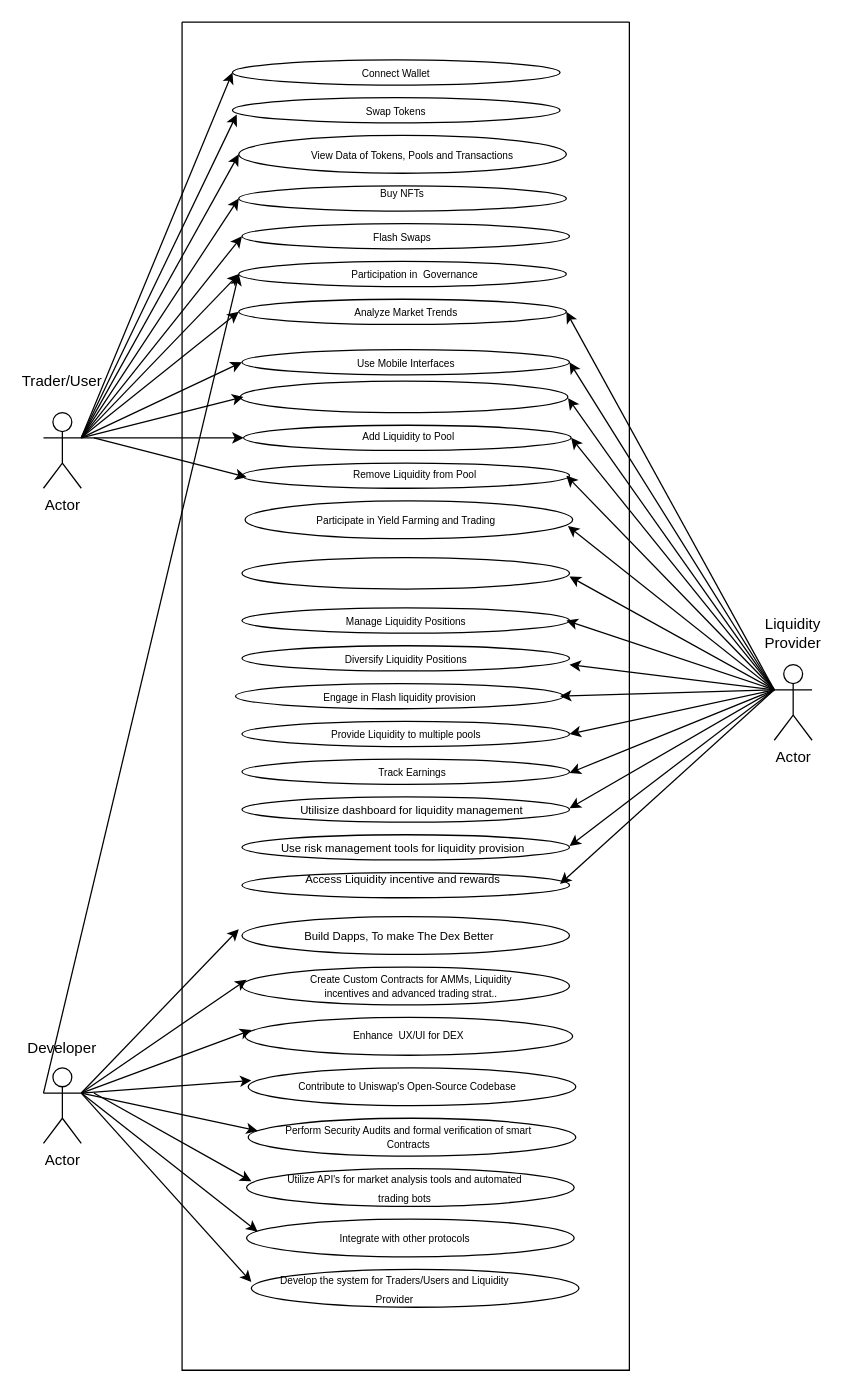
Image size: 852x1392. Some labels were removed from this diagram. Each missing label, with the box of its shape:
Create New Liquidity Pool: (239, 380, 568, 413)
Earn Trading Fees: (241, 556, 570, 589)
